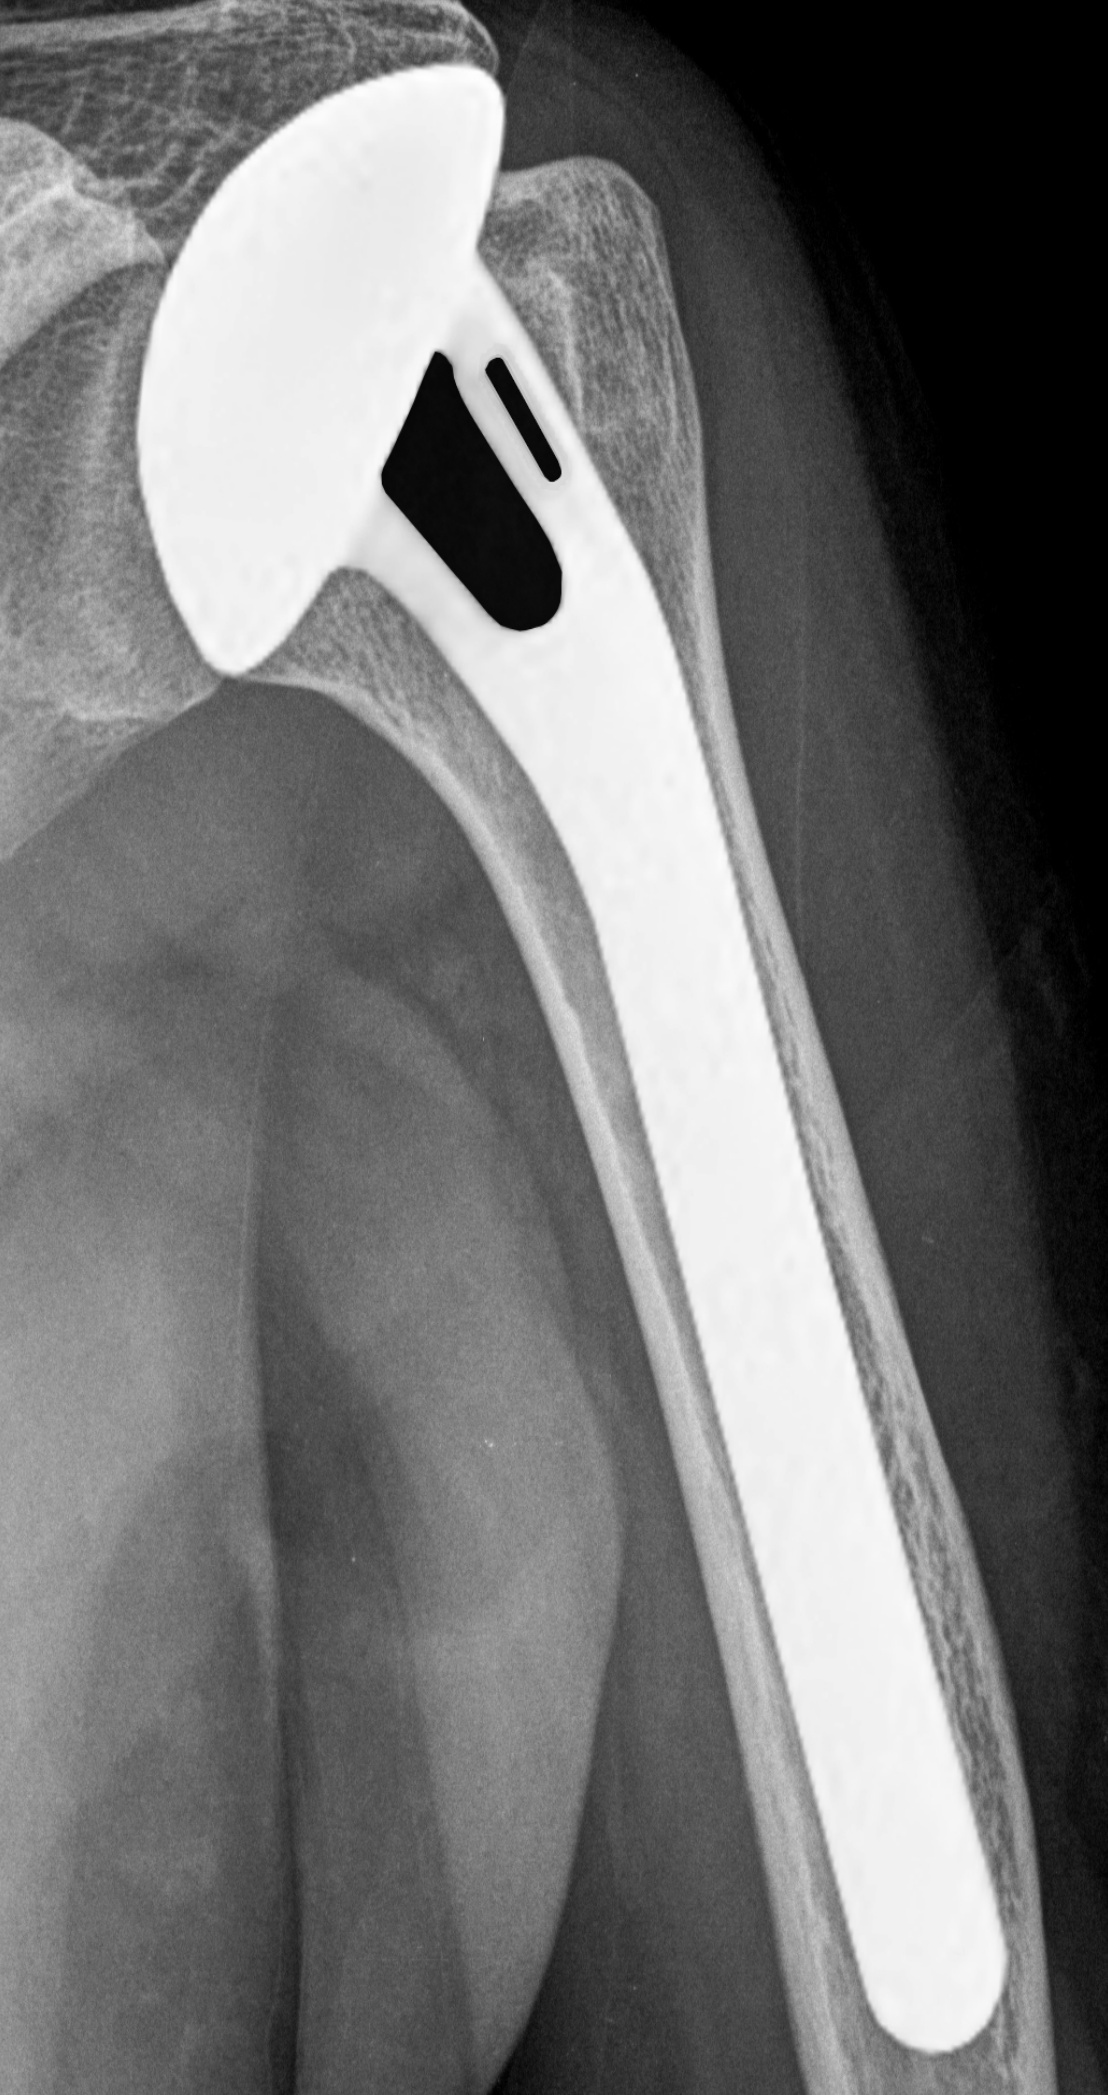Shoulder - AequalisFracture - Tornier: (127, 42, 614, 689)
